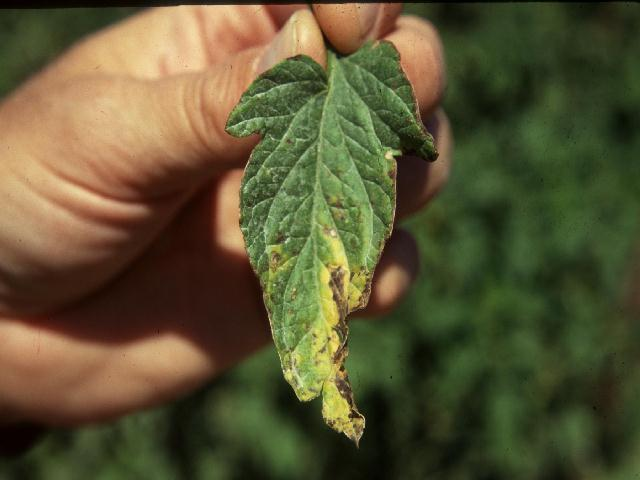Tomato leaf bacterial spot: (220, 27, 440, 454)
